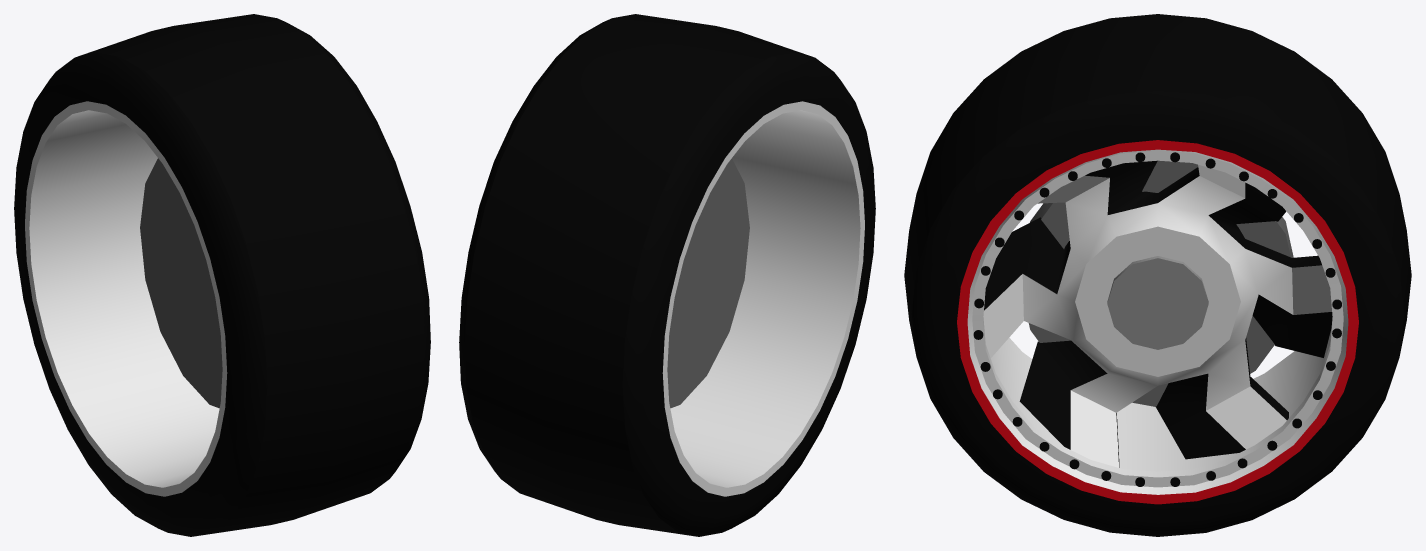
Rendered from wheel_gc14_3.glb.
3 renders of one model, left to right at view 1: azimuth 30°, elevation 25°; view 2: azimuth 150°, elevation 25°; view 3: azimuth 270°, elevation 25°, orthographic.
Parts seen in each view (by area): view 1: Wheel; view 2: Wheel; view 3: Wheel.
Part boxes in pixels (box(x1,y1,x2,y2)): Wheel: box(14, 14, 430, 536); Wheel: box(459, 14, 875, 536); Wheel: box(904, 14, 1411, 536).
Bounding box in the file's own units: 0.2855 × 0.6524 × 0.6524.
